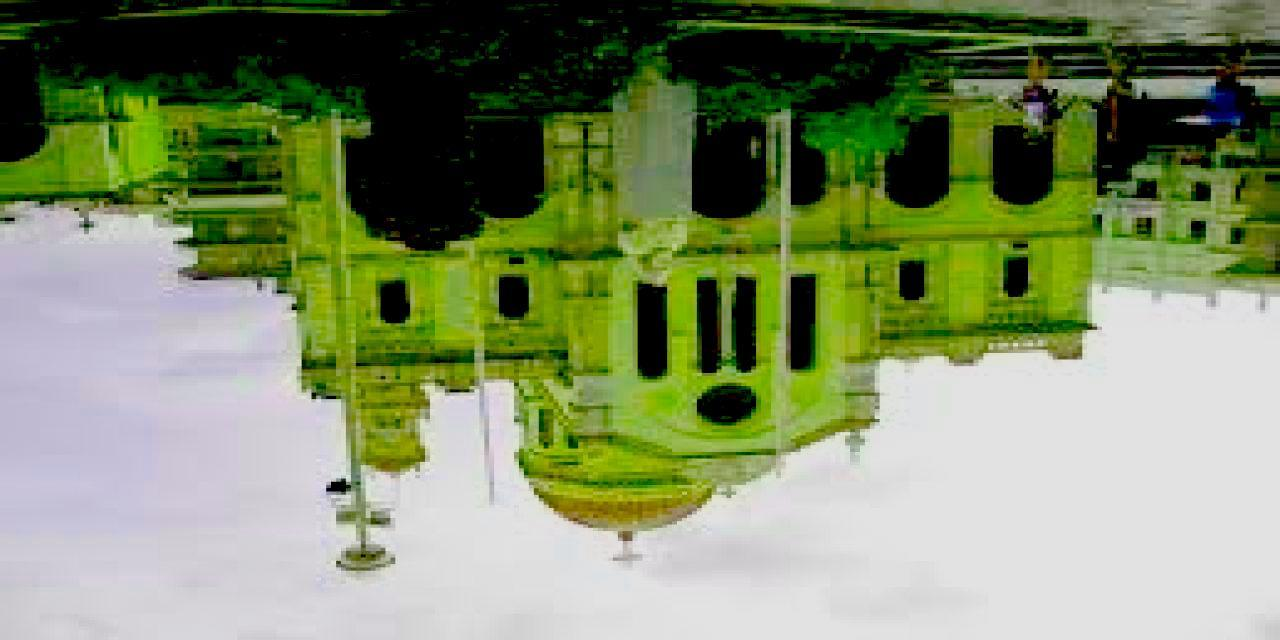Agios Minas: (306, 85, 1111, 590)
